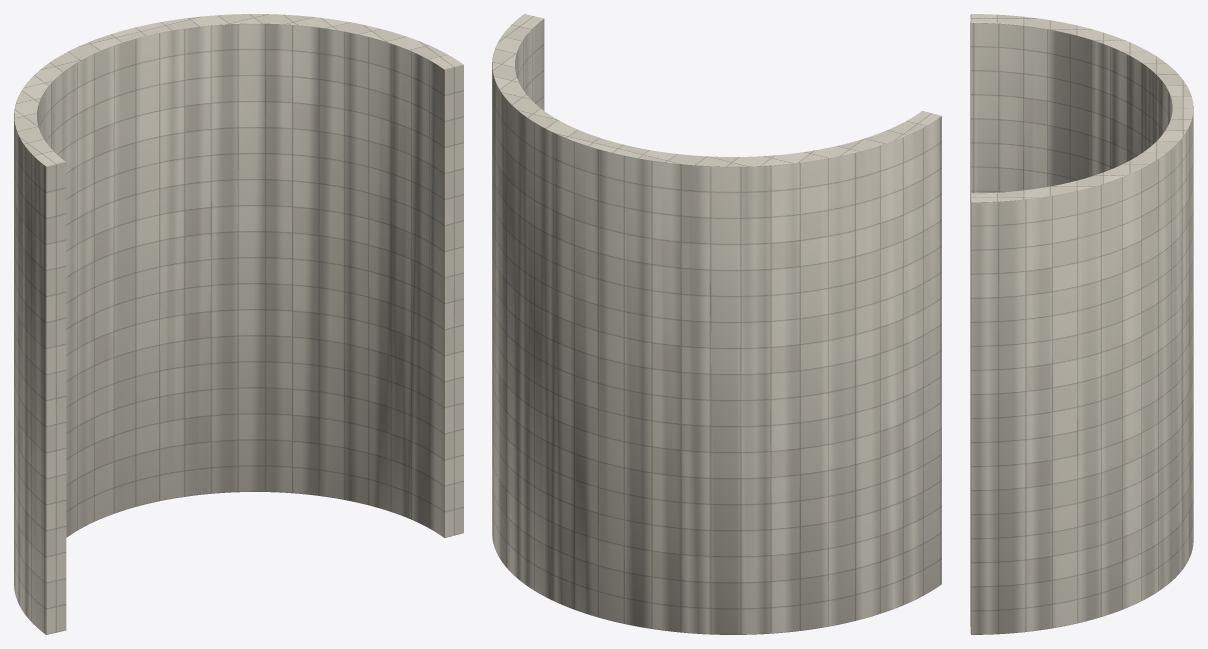
File: MOD_49_Wall_CurvedHalf_4m.glb
3 renders of one model, left to right at view 1: azimuth 30°, elevation 25°; view 2: azimuth 150°, elevation 25°; view 3: azimuth 270°, elevation 25°, orthographic. The views are drawn at different scales.
Parts seen in each view (by area): view 1: MOD_49_Wall_CurvedHalf_4m_Export; view 2: MOD_49_Wall_CurvedHalf_4m_Export; view 3: MOD_49_Wall_CurvedHalf_4m_Export.
Part boxes in pixels (x1=…): MOD_49_Wall_CurvedHalf_4m_Export: x1=14, y1=14, x2=463, y2=634; MOD_49_Wall_CurvedHalf_4m_Export: x1=492, y1=14, x2=941, y2=634; MOD_49_Wall_CurvedHalf_4m_Export: x1=970, y1=14, x2=1193, y2=634.
Size of the model in its own units: 4.2 by 4.5 by 2.1.
1 material, 1 textured.
